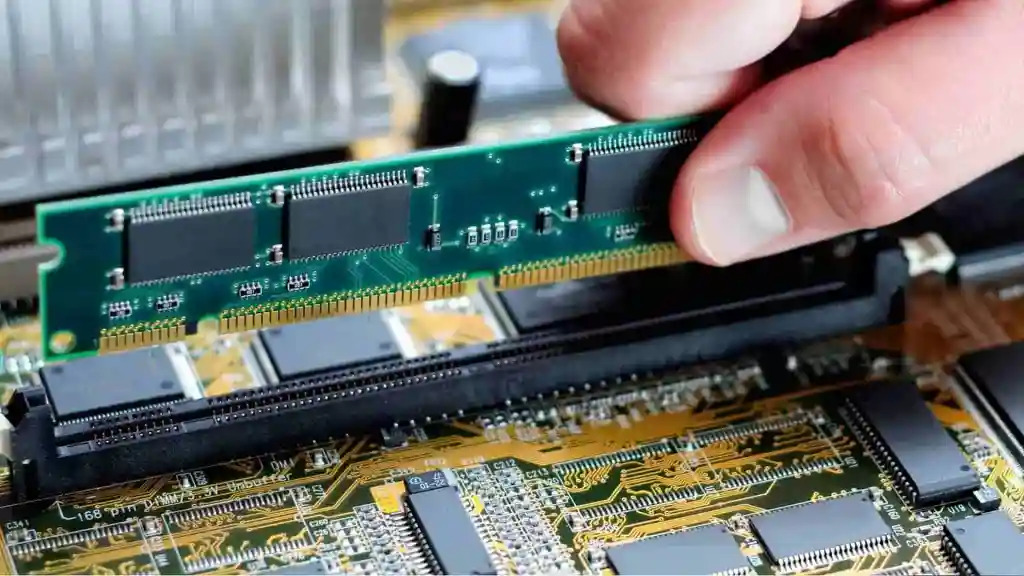ram: (36, 108, 732, 362)
